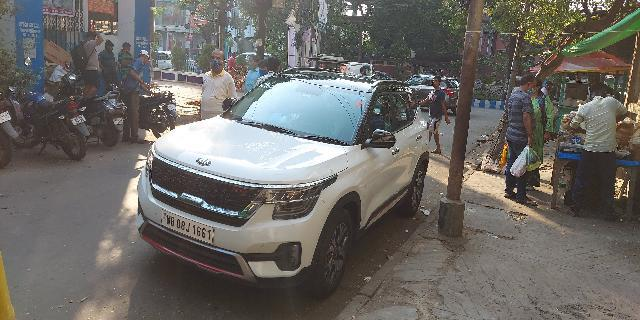Car: (133, 66, 434, 290)
Motorbike: (3, 89, 93, 161), (72, 83, 135, 150)
